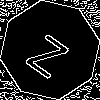Z: (25, 25, 76, 80)
